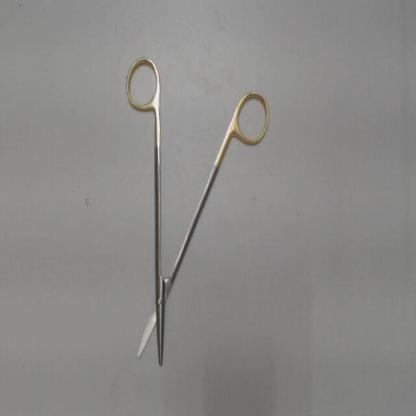7 Metzenbaum Scissors: (122, 50, 276, 369)
